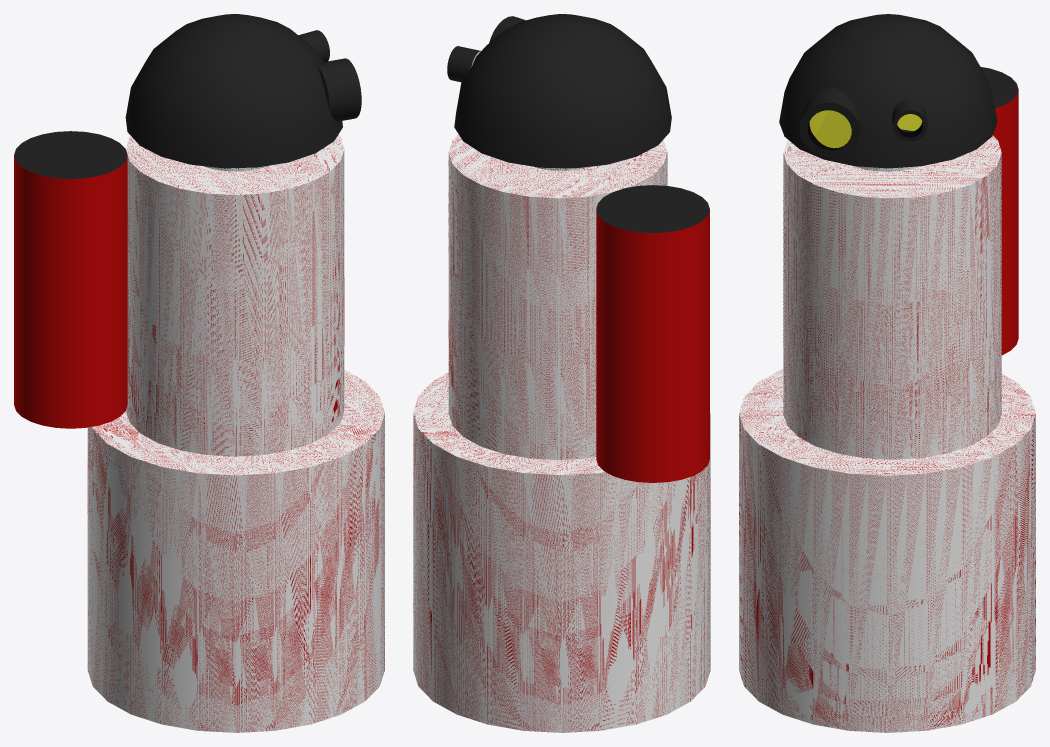
Rendered from robit.dae.
3 renders of one model, left to right at view 1: azimuth 30°, elevation 25°; view 2: azimuth 150°, elevation 25°; view 3: azimuth 270°, elevation 25°, orthographic.
Visible parts, largest first — view 1: SketchUp (×4), group_0; view 2: SketchUp (×4), group_0; view 3: SketchUp (×6), group_0.
Boxes of the visible parts, x1=… form: SketchUp (×4): x1=14, y1=58, x2=384, y2=732; group_0: x1=125, y1=14, x2=342, y2=168; SketchUp (×4): x1=413, y1=46, x2=710, y2=732; group_0: x1=454, y1=14, x2=671, y2=168; SketchUp (×6): x1=739, y1=67, x2=1035, y2=732; group_0: x1=779, y1=14, x2=997, y2=168.
Bounding box in the file's own units: 31.83 × 26.77 × 64.27.
